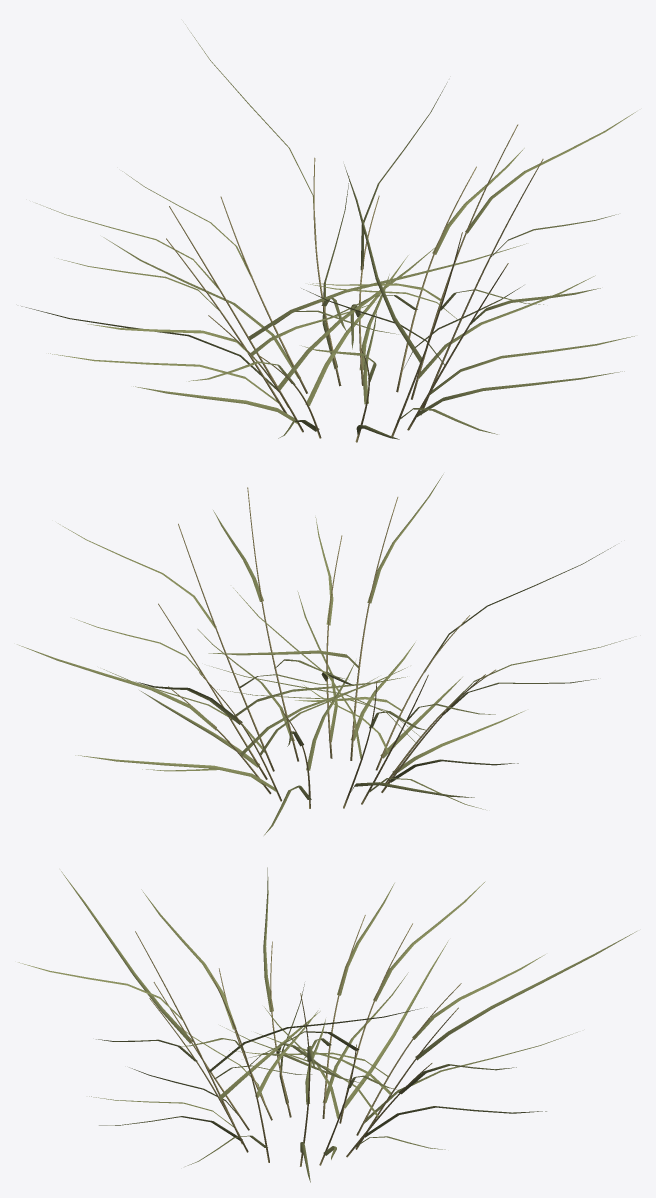
File: Herbes_0_Niveau0.fbx
3 views of the same model, one above another, from view 1: azimuth 30°, elevation 25°; view 2: azimuth 150°, elevation 25°; view 3: azimuth 270°, elevation 25° (orthographic). The views are drawn at different scales.
Visible parts, largest first — view 1: Herbes_0_Niveau0_Jeu; view 2: Herbes_0_Niveau0_Jeu; view 3: Herbes_0_Niveau0_Jeu.
Boxes of the visible parts, box(x1,y1,x2,y2) form: Herbes_0_Niveau0_Jeu: box(21, 24, 636, 442); Herbes_0_Niveau0_Jeu: box(17, 474, 630, 835); Herbes_0_Niveau0_Jeu: box(18, 867, 636, 1182).
Bounding box in the file's own units: 66.01 × 27.94 × 69.98.
